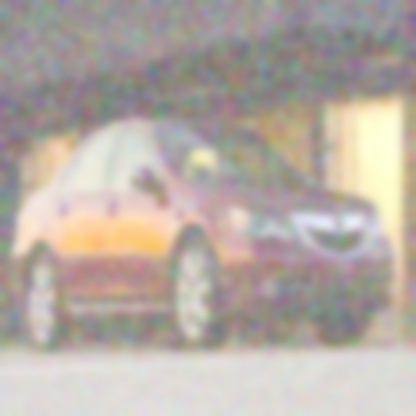Vehicle: (10, 116, 398, 356)
